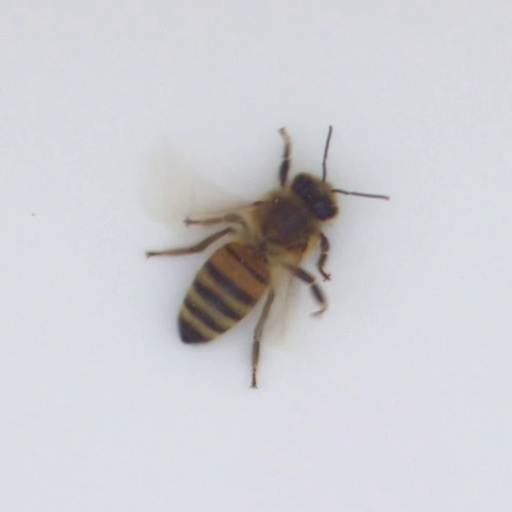Bee: (165, 176, 340, 350)
Thorax: (258, 196, 317, 253)
